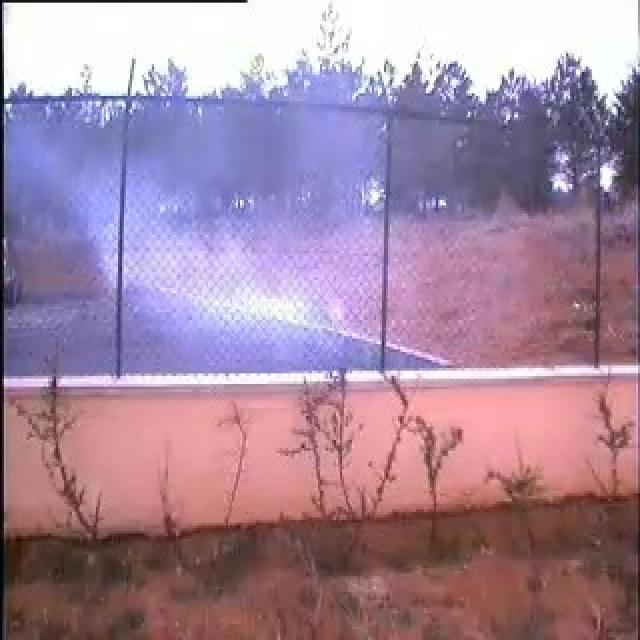smoke: (120, 104, 390, 371)
